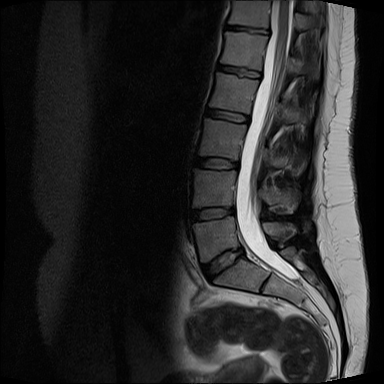Degenerative Disc Disease (DDD): (211, 59, 264, 83)
Normal IVD: (194, 238, 247, 289), (186, 196, 238, 229), (200, 103, 253, 128), (189, 151, 243, 175)
Thoracic Disc Bulge (TDB): (219, 15, 281, 38)
